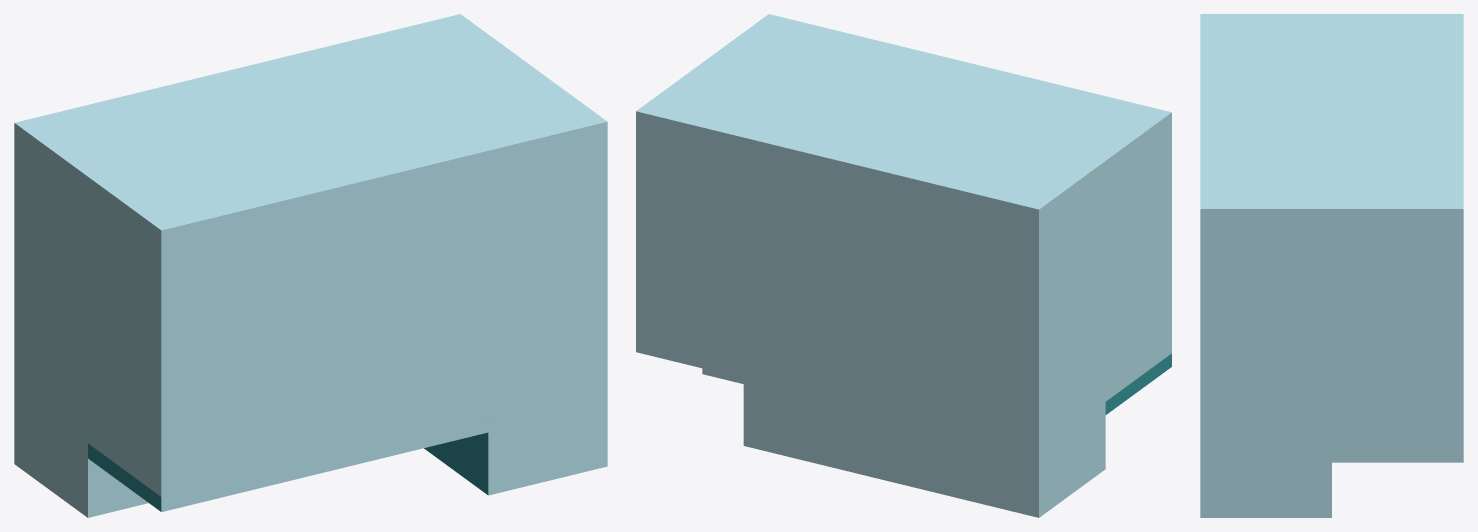
The model's file is house3.glb.
3 renders of one model, left to right at view 1: azimuth 30°, elevation 25°; view 2: azimuth 150°, elevation 25°; view 3: azimuth 270°, elevation 25°, orthographic. The views are drawn at different scales.
Visible parts, largest first — view 1: house3 -col; view 2: house3 -col; view 3: house3 -col.
Boxes of the visible parts, box(x1,y1,x2,y2) form: house3 -col: box(14, 14, 607, 517); house3 -col: box(636, 14, 1171, 517); house3 -col: box(1200, 14, 1463, 517).
Size of the model in its own units: 11.18 by 8.26 by 6.39.
1 material, 1 textured.
